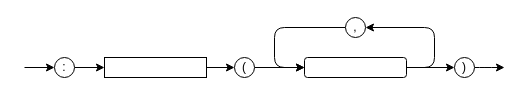
Some shapes in this 530 by 95 pixel diagram are drawn without their labels. The box of each missing label's shape, as (x1, y1, x2, y2) in pixels:
expression: (304, 56, 406, 78)
union: (104, 56, 206, 78)
